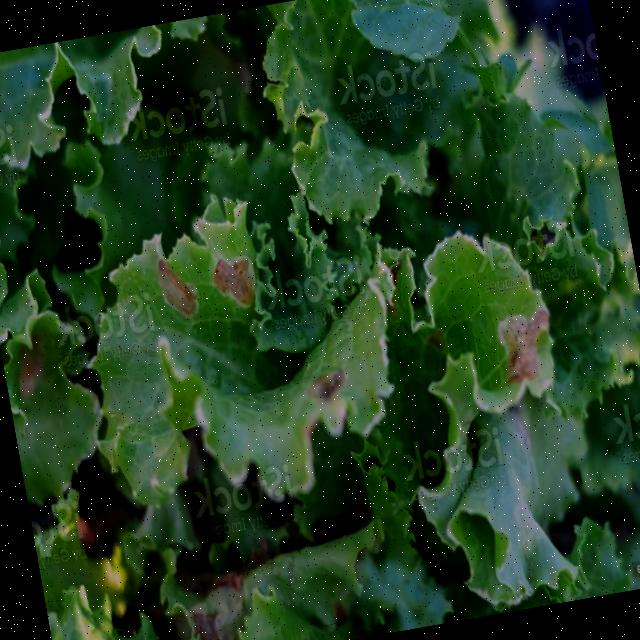Bacterial: (80, 212, 402, 480), (419, 222, 566, 424)
